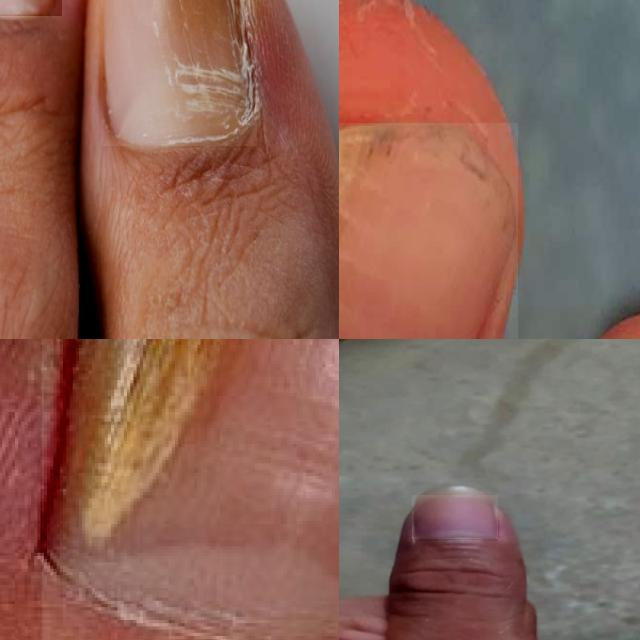diabetes: (42, 339, 339, 640), (339, 123, 518, 339), (102, 0, 257, 146), (412, 495, 498, 539)
